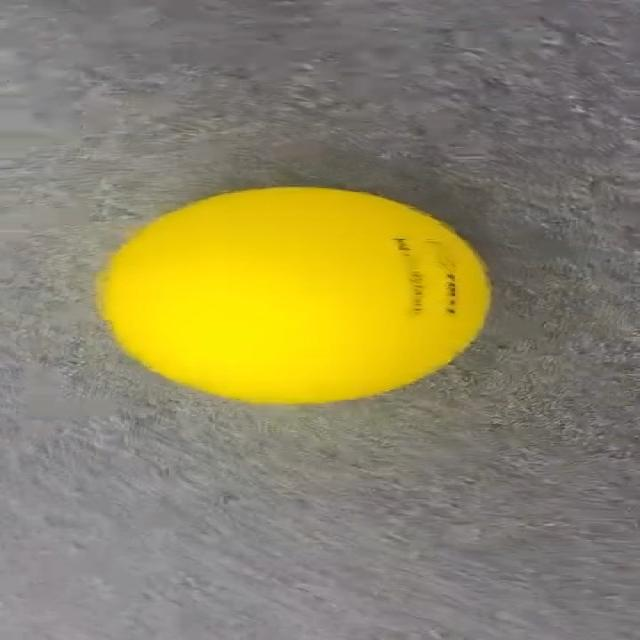Fuels: (105, 183, 489, 402)
